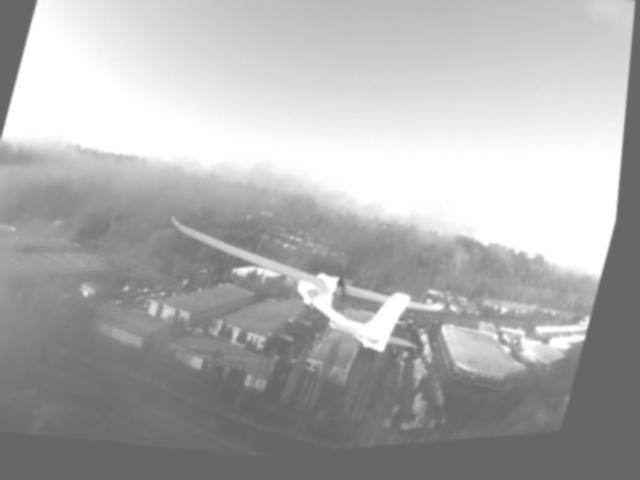hedef: (135, 190, 489, 421)
